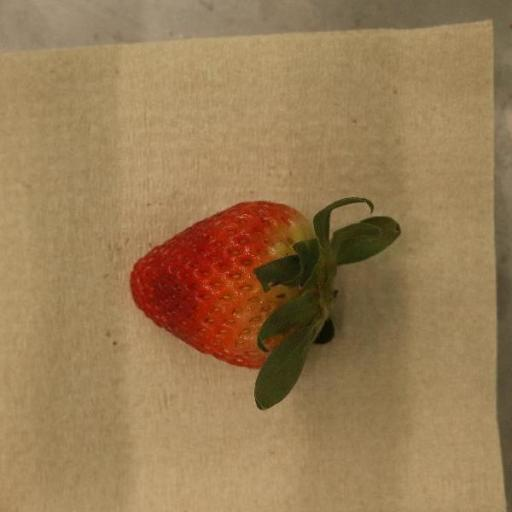Strawberry: (130, 197, 404, 412)
